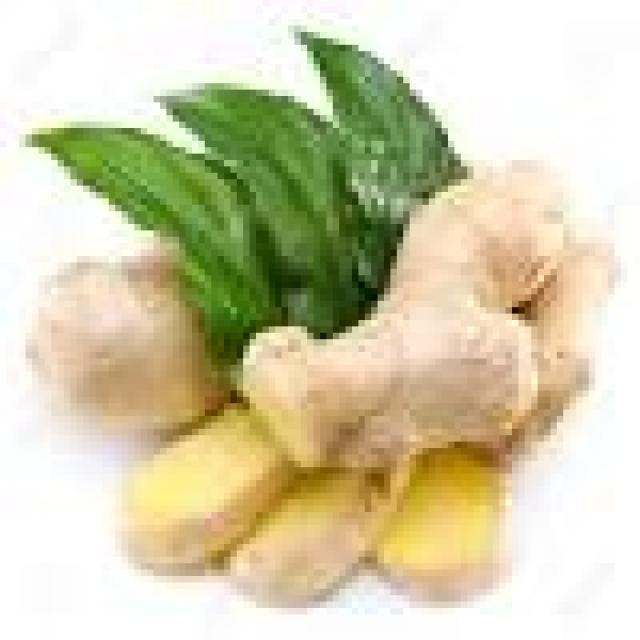ginger: (44, 216, 604, 622)
